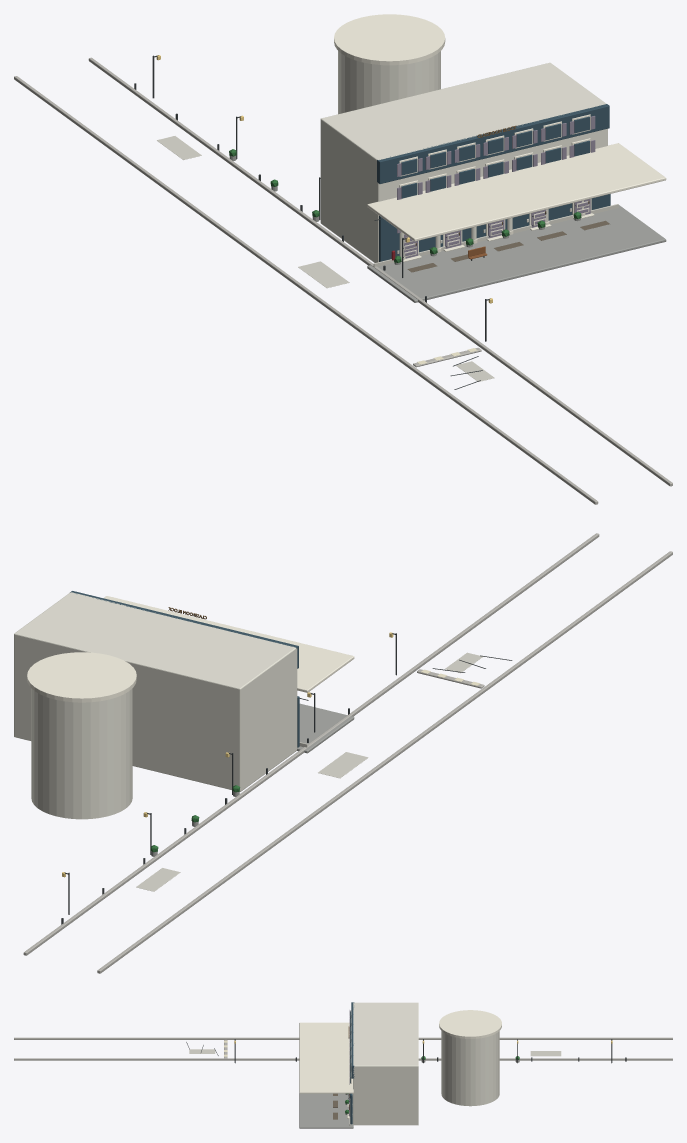
File: road.glb
The picture shows the model from 3 angles, top to bottom: view 1: azimuth 30°, elevation 25°; view 2: azimuth 150°, elevation 25°; view 3: azimuth 270°, elevation 25°; orthographic projection. The views are drawn at different scales.
Visible parts, largest first — view 1: LM_Modern_Block, LM_Corridor_Canopy, LM_Corridor_Floor, LM_Internal_Tower_Roof, LM_Internal_Circular_Tower, Internal_Road_Curb_L, Internal_Road_Curb_R, LM_Modern_UpperBand, LM_Modern_Walkway_Shadow; view 2: LM_Modern_Block, LM_Internal_Circular_Tower, LM_Internal_Tower_Roof, Internal_Road_Curb_L, Internal_Road_Curb_R, LM_Corridor_Canopy, LM_Corridor_Floor, LM_Modern_UpperBand, Road_Wear_Patch_2; view 3: LM_Modern_Block, LM_Internal_Circular_Tower, LM_Corridor_Canopy, LM_Corridor_Floor, LM_Internal_Tower_Roof, Internal_Road_Curb_L, Internal_Road_Curb_R, LM_Modern_UpperBand.
Part boxes in pixels (x1=…): LM_Modern_Block: x1=320, y1=62, x2=607, y2=262; LM_Corridor_Canopy: x1=367, y1=143, x2=666, y2=241; LM_Corridor_Floor: x1=367, y1=205, x2=666, y2=302; LM_Internal_Tower_Roof: x1=334, y1=14, x2=445, y2=65; LM_Internal_Circular_Tower: x1=338, y1=51, x2=440, y2=114; Internal_Road_Curb_L: x1=14, y1=76, x2=598, y2=504; Internal_Road_Curb_R: x1=88, y1=57, x2=672, y2=486; LM_Modern_UpperBand: x1=377, y1=104, x2=609, y2=183; LM_Modern_Walkway_Shadow: x1=379, y1=194, x2=610, y2=261; LM_Modern_Block: x1=14, y1=592, x2=297, y2=791; LM_Internal_Circular_Tower: x1=31, y1=688, x2=132, y2=819; LM_Internal_Tower_Roof: x1=27, y1=652, x2=136, y2=702; Internal_Road_Curb_L: x1=97, y1=551, x2=672, y2=973; Internal_Road_Curb_R: x1=23, y1=533, x2=599, y2=955; LM_Corridor_Canopy: x1=103, y1=596, x2=354, y2=692; LM_Corridor_Floor: x1=297, y1=703, x2=354, y2=753; LM_Modern_UpperBand: x1=70, y1=591, x2=298, y2=668; Road_Wear_Patch_2: x1=318, y1=752, x2=368, y2=778; LM_Modern_Block: x1=353, y1=1002, x2=418, y2=1125; LM_Internal_Circular_Tower: x1=441, y1=1031, x2=499, y2=1106; LM_Corridor_Canopy: x1=299, y1=1022, x2=353, y2=1093; LM_Corridor_Floor: x1=299, y1=1093, x2=353, y2=1128; LM_Internal_Tower_Roof: x1=439, y1=1010, x2=501, y2=1038; Internal_Road_Curb_L: x1=14, y1=1037, x2=672, y2=1039; Internal_Road_Curb_R: x1=14, y1=1058, x2=672, y2=1060; LM_Modern_UpperBand: x1=351, y1=1002, x2=354, y2=1078.
Size of the model in its own units: 44.92 by 16.53 by 140.
